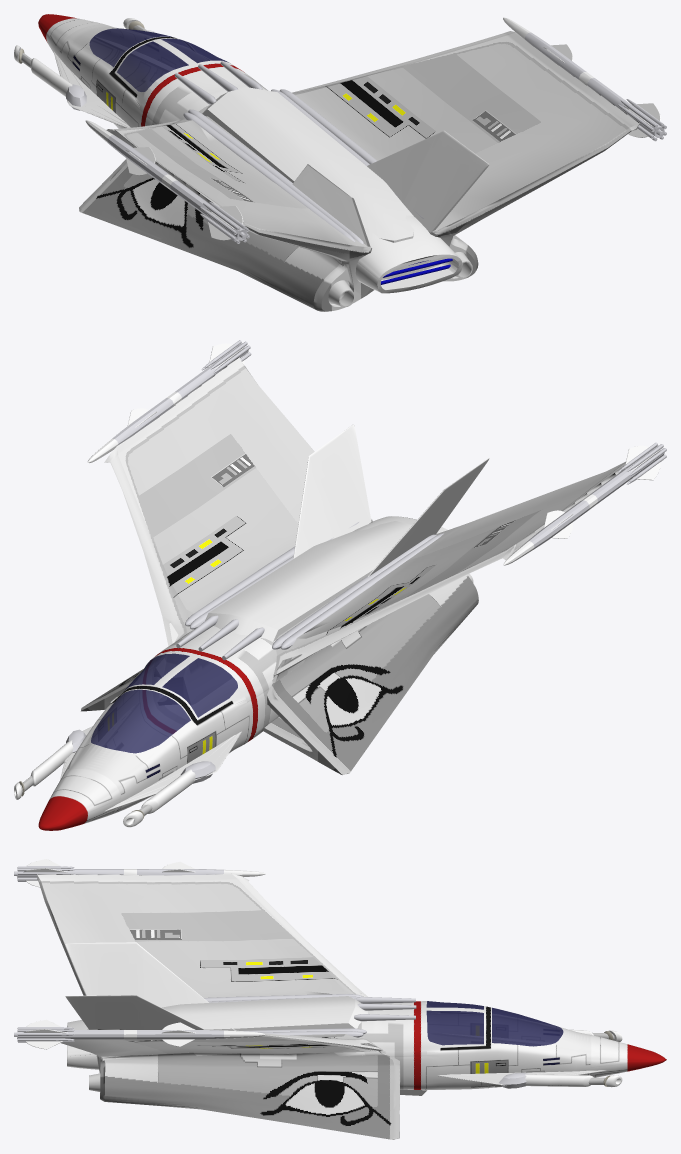
File: talon-retro.glb
3 views of the same model, one above another, from view 1: azimuth 30°, elevation 25°; view 2: azimuth 150°, elevation 25°; view 3: azimuth 270°, elevation 25° (orthographic). The views are drawn at different scales.
Visible parts, largest first — view 1: talon_zeal; view 2: talon_zeal; view 3: talon_zeal.
Boxes of the visible parts, bbox=[...] form: talon_zeal: bbox=[14, 14, 666, 311]; talon_zeal: bbox=[14, 340, 666, 830]; talon_zeal: bbox=[14, 859, 666, 1139].
Size of the model in its own units: 204 by 81.75 by 329.
Materials: 14 (4 with a texture image).
